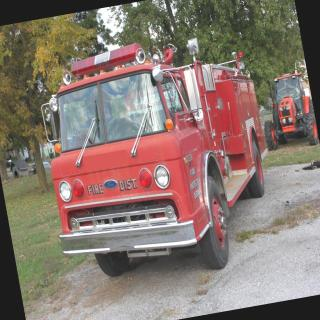Fire_truck: (28, 23, 286, 295)
